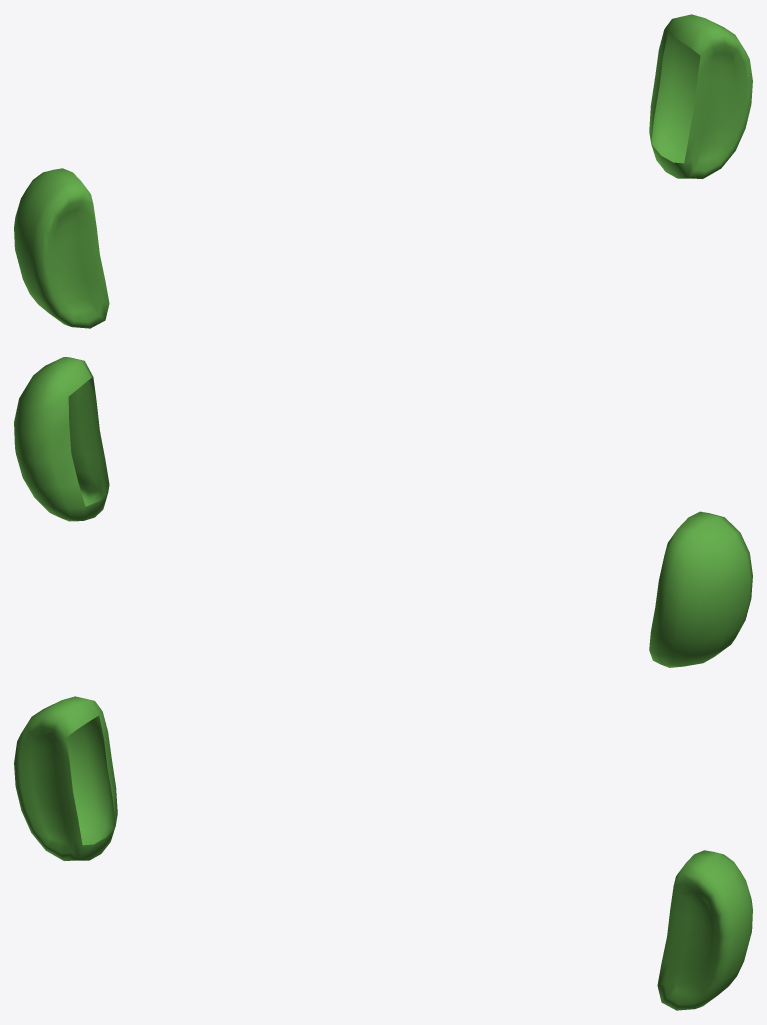
The model's file is Ears_05.glb.
3 views of the same model, one above another, from view 1: azimuth 30°, elevation 25°; view 2: azimuth 150°, elevation 25°; view 3: azimuth 330°, elevation 25° (orthographic).
Visible parts, largest first — view 1: Ears_05; view 2: Ears_05; view 3: Ears_05.
Part boxes in pixels (bbox=[...]): Ears_05: bbox=[14, 14, 752, 328]; Ears_05: bbox=[14, 357, 752, 667]; Ears_05: bbox=[14, 696, 752, 1010].
Size of the model in its own units: 0.6554 by 0.1295 by 0.076.
1 material, 1 textured.
